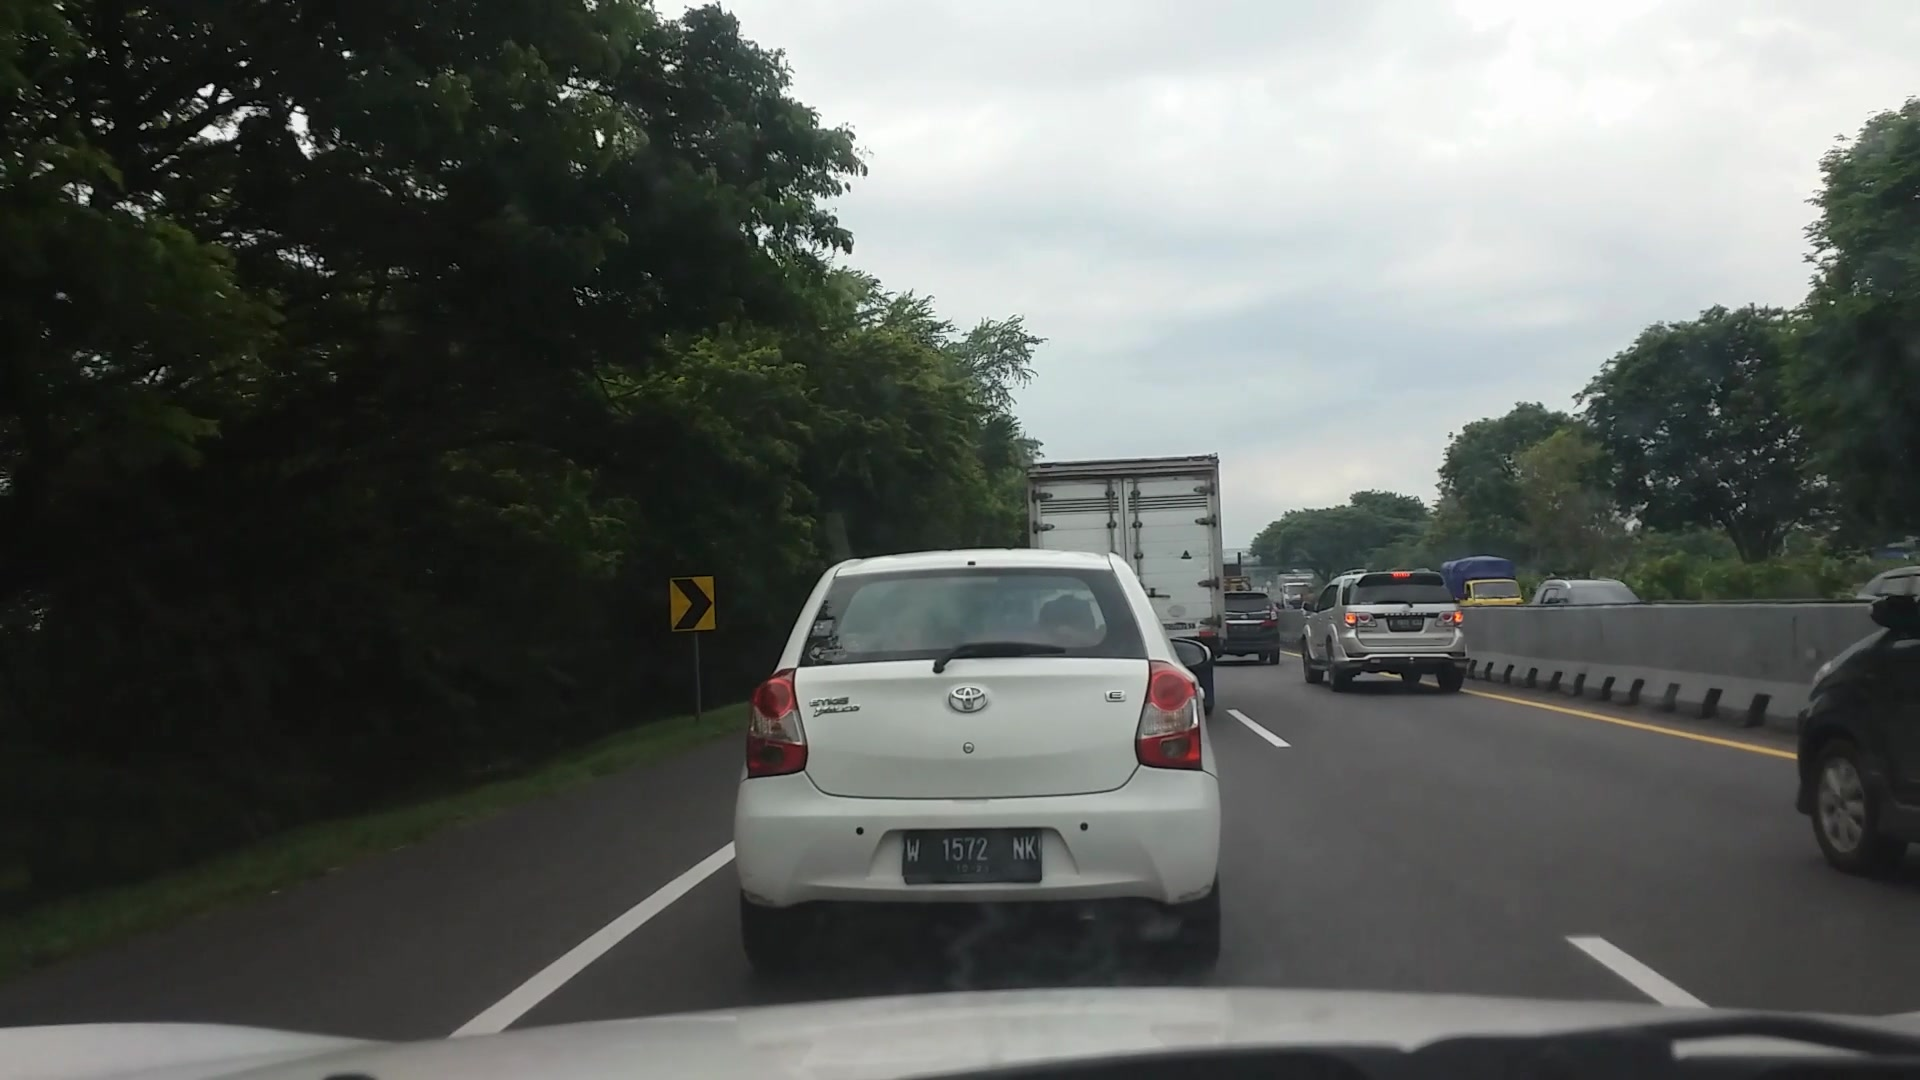plate_positive: (902, 827, 1042, 885)
